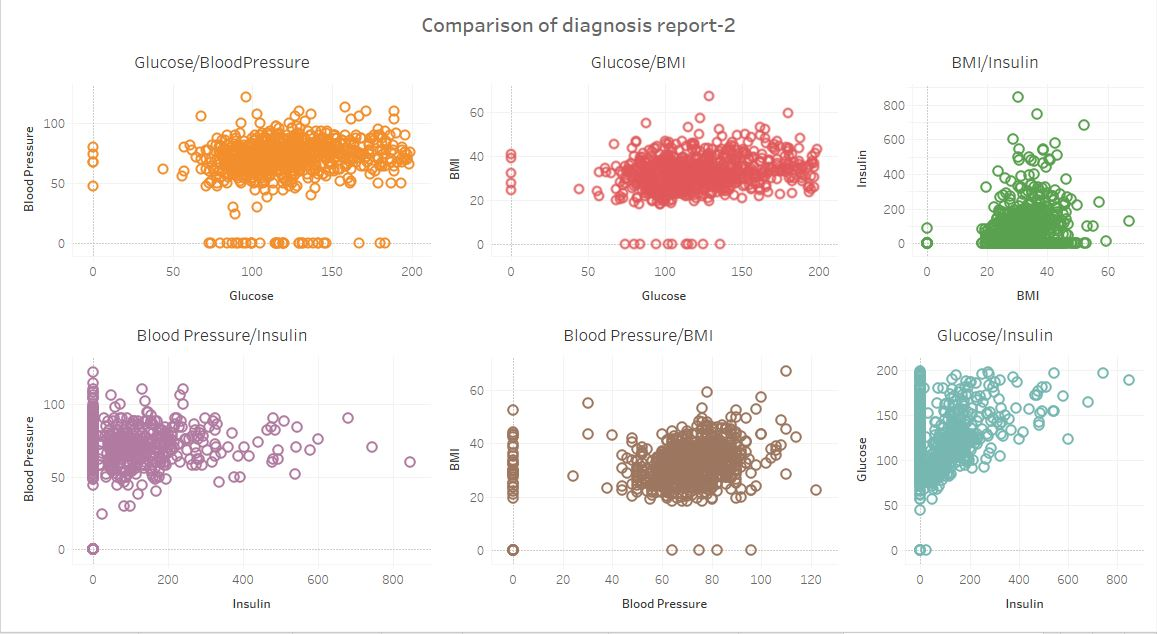

What the dashboard file says about the page in this screenshot:
{"tool":"tableau","page":{"name":"Analysis of diagnosis report-2","canvas":[1000,1000],"units":"permille","ordinal":1},"visuals":[{"type":"worksheet","box":[0,0,1000,1000]},{"type":"worksheet","box":[6.9,12.7,986.1,55.4]},{"type":"worksheet","title":"Glucose/Blood Pressure","mark":"Automatic","rows":["BloodPressure"],"cols":["Glucose"],"box":[6.9,68,368.8,432]},{"type":"worksheet","title":"Glucose/BMI","mark":"Automatic","rows":["BMI"],"cols":["Glucose"],"box":[375.8,68,352.4,432]},{"type":"worksheet","title":"BMI/Insulin","mark":"Automatic","rows":["Insulin"],"cols":["BMI"],"box":[728.1,68,264.9,432]},{"type":"worksheet","title":"Blood Pressure/Insulin","mark":"Automatic","rows":["BloodPressure"],"cols":["Insulin"],"box":[6.9,500,368.8,487.3]},{"type":"worksheet","title":"Blood Pressure/BMI","mark":"Automatic","rows":["BMI"],"cols":["BloodPressure"],"box":[375.8,500,352.4,487.3]},{"type":"worksheet","title":"Glucose/Insulin","mark":"Automatic","rows":["Glucose"],"cols":["Insulin"],"box":[728.1,500,264.9,487.3]}]}

Visuals, with their boxes on the dashboard's canvas, which has no fixed pixel size, in thousandths of its width and height (x1, y1, x2, y2). These are canvas units, not pixel positions in the 1157x634 screenshot, which may show the page scaled, cropped or inside an application window:
worksheet: l=0, t=0, r=1000, b=1000
worksheet: l=7, t=13, r=993, b=68
"Glucose/Blood Pressure" worksheet: l=7, t=68, r=376, b=500
"Glucose/BMI" worksheet: l=376, t=68, r=728, b=500
"BMI/Insulin" worksheet: l=728, t=68, r=993, b=500
"Blood Pressure/Insulin" worksheet: l=7, t=500, r=376, b=987
"Blood Pressure/BMI" worksheet: l=376, t=500, r=728, b=987
"Glucose/Insulin" worksheet: l=728, t=500, r=993, b=987
